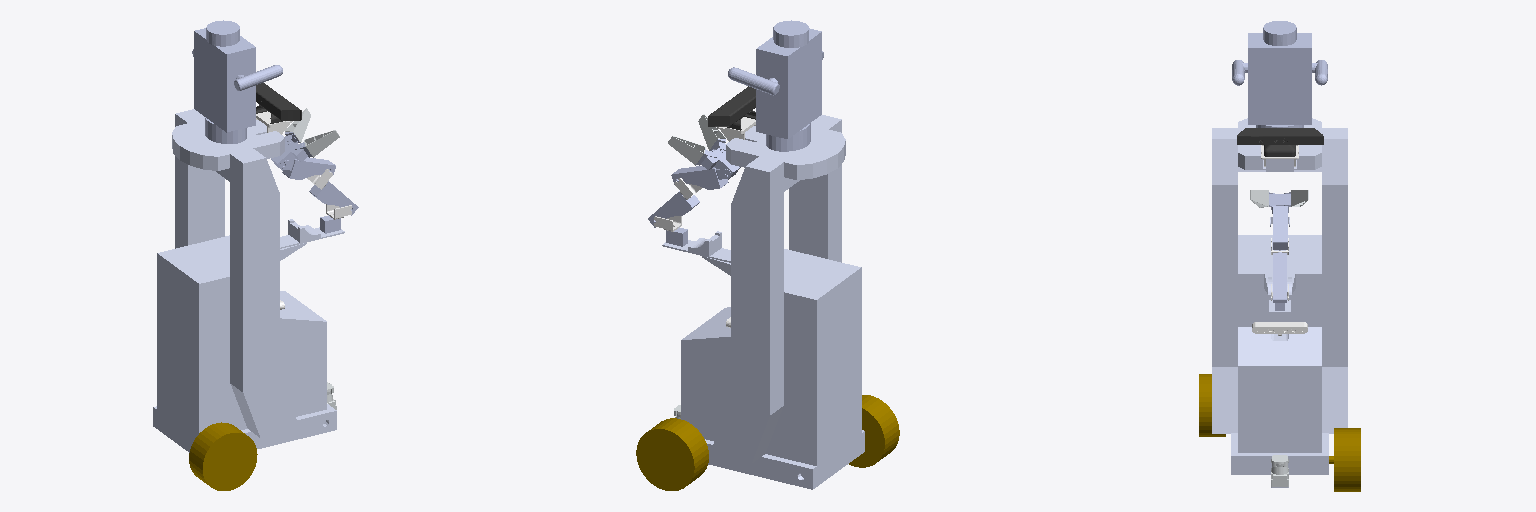
--- Facts derived from the render (not from the file) ---
3 views of the same robot in one strip: view 1: azimuth 30°, elevation 25°; view 2: azimuth 150°, elevation 25°; view 3: azimuth 270°, elevation 25° (orthographic).
Model hera_description with 20 links and 19 joints (4 continuous, 15 fixed), rooted at base_link, posed all joints at 0.
Visible links, largest first — view 1: base_link, head_link, wheelBR_link, camera_link, link_7, link_4, link_6, link_2; view 2: base_link, head_link, wheelFL_link, wheelBR_link, camera_link, link_7, link_4, link_6, link_2; view 3: base_link, head_link, camera_link, wheelFL_link, wheelBR_link, link_2, xtion_depth_optical, link_4, link_7, base_scan_link.
Boxes of the visible links, x1,y1,x2,y2 form: base_link: (153,109,344,452); head_link: (192,20,282,143); wheelBR_link: (189,422,257,490); camera_link: (256,83,301,123); link_7: (285,108,339,157); link_4: (282,157,335,179); link_6: (271,132,312,170); link_2: (309,181,358,215); base_link: (662,115,864,489); head_link: (728,20,823,151); wheelFL_link: (636,418,708,490); wheelBR_link: (849,395,899,467); camera_link: (708,86,755,130); link_7: (668,114,725,165); link_4: (671,166,728,189); link_6: (696,139,740,179); link_2: (648,191,699,227); base_link: (1212,118,1347,487); head_link: (1232,21,1327,127); camera_link: (1237,128,1323,156); wheelFL_link: (1329,428,1360,491); wheelBR_link: (1199,374,1225,436); link_2: (1273,252,1286,302); xtion_depth_optical: (1252,322,1307,335); link_4: (1273,207,1287,249); link_7: (1250,190,1308,207); base_scan_link: (1271,455,1288,486).
Bounding box of the posed robot: 0.7129 × 0.5215 × 1.5 m (x, y, z).
Meshes: 19 distinct files referenced, 17 mesh visuals loaded (17 binary STL); not drawn: 2 (reference not matched to a file when rendering).

robot.urdf — hera_description:
<robot
  name="hera_description">
  <link
    name="base_link">
    <inertial>
      <origin
        xyz="-0.0378472205159159 -4.45763618397466E-08 0.342644249622605"
        rpy="0 0 0" />
      <mass
        value="20" />
      <inertia
        ixx="0.044064230209152"
        ixy="1.30625532944847E-06"
        ixz="0.00719294044752676"
        iyy="0.0704530976037132"
        iyz="-1.57888819011965E-06"
        izz="0.0263888679239557" />
    </inertial>
    <visual>
      <origin
        xyz="0 0 0"
        rpy="0 0 0" />
      <geometry>
        <mesh
          filename="package://hera_description/meshes/base_link.STL" />
      </geometry>
      <material
        name="">
        <color
          rgba="0.882352941176471 0.909803921568627 1 1" />
      </material>
    </visual>
    <collision>
      <origin
        xyz="0 0 0"
        rpy="0 0 0" />
      <geometry>
        <mesh
          filename="package://hera_description/meshes/base_link.STL" />
      </geometry>
    </collision>
  </link>
  <link
    name="wheelFL_link">
    <inertial>
      <origin
        xyz="-2.77555756156289E-17 -0.000127707075968042 0"
        rpy="0 0 0" />
      <mass
        value="24.2701476542873" />
      <inertia
        ixx="0"
        ixy="0"
        ixz="0"
        iyy="0"
        iyz="0"
        izz="0" />
    </inertial>
    <visual>
      <origin
        xyz="0 0 0"
        rpy="0 0 0" />
      <geometry>
        <mesh
          filename="package://hera_description/meshes/wheelFL_link.STL" />
      </geometry>
      <material
        name="">
        <color
          rgba="0.647058823529412 0.517647058823529 0 1" />
      </material>
    </visual>
    <collision>
      <origin
        xyz="0 0 0"
        rpy="0 0 0" />
      <geometry>
        <mesh
          filename="package://hera_description/meshes/wheelFL_link.STL" />
      </geometry>
    </collision>
  </link>
  <joint
    name="wheelFL_joint"
    type="continuous">
    <origin
      xyz="0.20648 0.21675 0"
      rpy="0 0 0" />
    <parent
      link="base_link" />
    <child
      link="wheelFL_link" />
    <axis
      xyz="0 1 0" />
    <limit
      effort="3.25"
      velocity="5" />
  </joint>
  <link
    name="wheelFR_link">
    <inertial>
      <origin
        xyz="0 0.000127707075968042 0"
        rpy="0 0 0" />
      <mass
        value="24.2701476542873" />
      <inertia
        ixx="0"
        ixy="0"
        ixz="0"
        iyy="0"
        iyz="0"
        izz="0" />
    </inertial>
    <visual>
      <origin
        xyz="0 0 0"
        rpy="0 0 0" />
      <geometry>
        <mesh
          filename="package://hera_description/meshes/wheelFR_link.STL" />
      </geometry>
      <material
        name="">
        <color
          rgba="0.647058823529412 0.517647058823529 0 1" />
      </material>
    </visual>
    <collision>
      <origin
        xyz="0 0 0"
        rpy="0 0 0" />
      <geometry>
        <mesh
          filename="package://hera_description/meshes/wheelFR_link.STL" />
      </geometry>
    </collision>
  </link>
  <joint
    name="wheelFR_joint"
    type="continuous">
    <origin
      xyz="0.20648 -0.21675 0"
      rpy="0 0 0" />
    <parent
      link="base_link" />
    <child
      link="wheelFR_link" />
    <axis
      xyz="0 1 0" />
    <limit
      effort="3.25"
      velocity="5" />
  </joint>
  <link
    name="wheelBL_link">
    <inertial>
      <origin
        xyz="0 -0.000127707075968042 0"
        rpy="0 0 0" />
      <mass
        value="24.2701476542873" />
      <inertia
        ixx="0"
        ixy="0"
        ixz="0"
        iyy="0"
        iyz="0"
        izz="0" />
    </inertial>
    <visual>
      <origin
        xyz="0 0 0"
        rpy="0 0 0" />
      <geometry>
        <mesh
          filename="package://hera_description/meshes/wheelBL_link.STL" />
      </geometry>
      <material
        name="">
        <color
          rgba="0.647058823529412 0.517647058823529 0 1" />
      </material>
    </visual>
    <collision>
      <origin
        xyz="0 0 0"
        rpy="0 0 0" />
      <geometry>
        <mesh
          filename="package://hera_description/meshes/wheelBL_link.STL" />
      </geometry>
    </collision>
  </link>
  <joint
    name="wheelBL_joint"
    type="continuous">
    <origin
      xyz="-0.20623 0.21675 0"
      rpy="0 0 0" />
    <parent
      link="base_link" />
    <child
      link="wheelBL_link" />
    <axis
      xyz="0 1 0" />
    <limit
      effort="3.25"
      velocity="5" />
  </joint>
  <link
    name="wheelBR_link">
    <inertial>
      <origin
        xyz="0 0.000127707075968042 6.93889390390723E-18"
        rpy="0 0 0" />
      <mass
        value="24.2701476542873" />
      <inertia
        ixx="0"
        ixy="0"
        ixz="0"
        iyy="0"
        iyz="0"
        izz="0" />
    </inertial>
    <visual>
      <origin
        xyz="0 0 0"
        rpy="0 0 0" />
      <geometry>
        <mesh
          filename="package://hera_description/meshes/wheelBR_link.STL" />
      </geometry>
      <material
        name="">
        <color
          rgba="0.647058823529412 0.517647058823529 0 1" />
      </material>
    </visual>
    <collision>
      <origin
        xyz="0 0 0"
        rpy="0 0 0" />
      <geometry>
        <mesh
          filename="package://hera_description/meshes/wheelBR_link.STL" />
      </geometry>
    </collision>
  </link>
  <joint
    name="wheelBR_joint"
    type="continuous">
    <origin
      xyz="-0.20623 -0.21675 0"
      rpy="0 0 0" />
    <parent
      link="base_link" />
    <child
      link="wheelBR_link" />
    <axis
      xyz="0 1 0" />
    <limit
      effort="3.25"
      velocity="5" />
  </joint>
  <link
    name="base_scan_link">
    <inertial>
      <origin
        xyz="-0.00172501697333638 -4.93002948039427E-13 -0.0147337457873118"
        rpy="0 0 0" />
      <mass
        value="0.669181583389372" />
      <inertia
        ixx="0.000378278931511382"
        ixy="-2.04265599379836E-17"
        ixz="1.4632315095333E-06"
        iyy="0.000378287917620533"
        iyz="9.23792313122111E-15"
        izz="8.98610915070338E-09" />
    </inertial>
    <visual>
      <origin
        xyz="0 0 0"
        rpy="0 0 0" />
      <geometry>
        <mesh
          filename="package://hera_description/meshes/base_scan_link.STL" />
      </geometry>
      <material
        name="">
        <color
          rgba="0.898039215686275 0.917647058823529 0.929411764705882 1" />
      </material>
    </visual>
    <collision>
      <origin
        xyz="0 0 0"
        rpy="0 0 0" />
      <geometry>
        <mesh
          filename="package://hera_description/meshes/base_scan_link.STL" />
      </geometry>
    </collision>
  </link>
  <joint
    name="base_scan_joint"
    type="fixed">
    <origin
      xyz="0.29379 0 0.013419"
      rpy="0 0 0" />
    <parent
      link="base_link" />
    <child
      link="base_scan_link" />
    <axis
      xyz="0 0 0" />
  </joint>
  <link
    name="xtion_link">
    <inertial>
      <origin
        xyz="-0.0214204948659581 -4.24610953899513E-10 -0.000813578798952275"
        rpy="0 0 0" />
      <mass
        value="0.012280323128001" />
      <inertia
        ixx="0"
        ixy="0"
        ixz="0"
        iyy="0"
        iyz="0"
        izz="0" />
    </inertial>
    <visual>
      <origin
        xyz="0 0 0"
        rpy="0 0 0" />
      <geometry>
        <mesh
          filename="package://hera_description/meshes/xtion_link.STL" />
      </geometry>
      <material
        name="">
        <color
          rgba="1 1 1 0.32" />
      </material>
    </visual>
    <collision>
      <origin
        xyz="0 0 0"
        rpy="0 0 0" />
      <geometry>
        <mesh
          filename="package://hera_description/meshes/xtion_link.STL" />
      </geometry>
    </collision>
  </link>
  <joint
    name="xtion_joint"
    type="fixed">
    <origin
      xyz="0.0775 0 0.3873"
      rpy="0 0 0" />
    <parent
      link="base_link" />
    <child
      link="xtion_link" />
    <axis
      xyz="0 1 0" />
    <limit
      effort="0"
      velocity="0" />
  </joint>
  <link
    name="xtion_depth_optical">
    <inertial>
      <origin
        xyz="-0.0167798361475048 -0.0447871333667723 -0.000201032384153421"
        rpy="0 0 0" />
      <mass
        value="0.160828442414892" />
      <inertia
        ixx="0"
        ixy="0"
        ixz="0"
        iyy="0"
        iyz="0"
        izz="0" />
    </inertial>
    <visual>
      <origin
        xyz="0 0 0"
        rpy="0 0 0" />
      <geometry>
        <mesh
          filename="package://hera_description/meshes/xtion_depth_optical.STL" />
      </geometry>
      <material
        name="">
        <color
          rgba="1 1 1 0.32" />
      </material>
    </visual>
    <collision>
      <origin
        xyz="0 0 0"
        rpy="0 0 0" />
      <geometry>
        <mesh
          filename="package://hera_description/meshes/xtion_depth_optical.STL" />
      </geometry>
    </collision>
  </link>
  <joint
    name="xtion_depth_optical_joint"
    type="fixed">
    <origin
      xyz="0.016 0.0445000000000008 0.0214843769443395"
      rpy="0 0 0" />
    <parent
      link="xtion_link" />
    <child
      link="xtion_depth_optical" />
    <axis
      xyz="0 0 0" />
  </joint>
  <link
    name="manip_link">
    <inertial>
      <origin
        xyz="0.00670680348818703 3.974947148317E-09 0.0318456490768535"
        rpy="0 0 0" />
      <mass
        value="0.117793912097688" />
      <inertia
        ixx="3.51059975475259E-05"
        ixy="-8.98830903989E-12"
        ixz="-2.22633738741355E-05"
        iyy="4.92248903546142E-05"
        iyz="-1.41732136779733E-11"
        izz="1.41188928070997E-05" />
    </inertial>
    <visual>
      <origin
        xyz="0 0 0"
        rpy="0 0 0" />
      <geometry>
        <mesh
          filename="package://hera_description/meshes/manip_link.STL" />
      </geometry>
      <material
        name="">
        <color
          rgba="0.792156862745098 0.819607843137255 0.933333333333333 1" />
      </material>
    </visual>
    <collision>
      <origin
        xyz="0 0 0"
        rpy="0 0 0" />
      <geometry>
        <mesh
          filename="package://hera_description/meshes/manip_link.STL" />
      </geometry>
    </collision>
  </link>
  <joint
    name="manip_joint"
    type="fixed">
    <origin
      xyz="0.316 0 0.5923"
      rpy="0 0 0" />
    <parent
      link="base_link" />
    <child
      link="manip_link" />
    <axis
      xyz="0 0 0" />
  </joint>
  <link
    name="link_1">
    <inertial>
      <origin
        xyz="0.0104033798877035 1.61957894568264E-08 0.0156157675149726"
        rpy="0 0 0" />
      <mass
        value="0.0289102663054045" />
      <inertia
        ixx="0"
        ixy="0"
        ixz="0"
        iyy="0"
        iyz="0"
        izz="0" />
    </inertial>
    <visual>
      <origin
        xyz="0 0 0"
        rpy="0 0 0" />
      <geometry>
        <mesh
          filename="package://hera_description/meshes/link_1.STL" />
      </geometry>
      <material
        name="">
        <color
          rgba="0.996078431372549 0.996078431372549 1 1" />
      </material>
    </visual>
    <collision>
      <origin
        xyz="0 0 0"
        rpy="0 0 0" />
      <geometry>
        <mesh
          filename="package://hera_description/meshes/link_1.STL" />
      </geometry>
    </collision>
  </link>
  <joint
    name="joint_1"
    type="fixed">
    <origin
      xyz="0.0155 0 0.0465"
      rpy="0 0 0" />
    <parent
      link="manip_link" />
    <child
      link="link_1" />
    <axis
      xyz="0 0 1" />
    <limit
      effort="10.6"
      velocity="5" />
  </joint>
  <link
    name="link_2">
    <inertial>
      <origin
        xyz="0.0741364452821117 1.30229255655455E-17 0.00628031610796598"
        rpy="0 0 0" />
      <mass
        value="0.375828736783438" />
      <inertia
        ixx="0"
        ixy="0"
        ixz="0"
        iyy="0"
        iyz="0"
        izz="0" />
    </inertial>
    <visual>
      <origin
        xyz="0 0 0"
        rpy="0 0 0" />
      <geometry>
        <mesh
          filename="package://hera_description/meshes/link_2.STL" />
      </geometry>
      <material
        name="">
        <color
          rgba="0.792156862745098 0.819607843137255 0.933333333333333 1" />
      </material>
    </visual>
    <collision>
      <origin
        xyz="0 0 0"
        rpy="0 0 0" />
      <geometry>
        <mesh
          filename="package://hera_description/meshes/link_2.STL" />
      </geometry>
    </collision>
  </link>
  <joint
    name="joint_2"
    type="fixed">
    <origin
      xyz="0.048 0 0.0215"
      rpy="3.1416 -0.8154 -3.1416" />
    <parent
      link="link_1" />
    <child
      link="link_2" />
    <axis
      xyz="0 -1 0" />
    <limit
      effort="10.6"
      velocity="5" />
  </joint>
  <link
    name="link_3">
    <inertial>
      <origin
        xyz="0.0156157675773119 1.6417634019545E-08 -0.0104033799815866"
        rpy="0 0 0" />
      <mass
        value="0.0289102659811359" />
      <inertia
        ixx="0"
        ixy="0"
        ixz="0"
        iyy="0"
        iyz="0"
        izz="0" />
    </inertial>
    <visual>
      <origin
        xyz="0 0 0"
        rpy="0 0 0" />
      <geometry>
        <mesh
          filename="package://hera_description/meshes/link_3.STL" />
      </geometry>
      <material
        name="">
        <color
          rgba="0.996078431372549 0.996078431372549 1 1" />
      </material>
    </visual>
    <collision>
      <origin
        xyz="0 0 0"
        rpy="0 0 0" />
      <geometry>
        <mesh
          filename="package://hera_description/meshes/link_3.STL" />
      </geometry>
    </collision>
  </link>
  <joint
    name="joint_3"
    type="fixed">
    <origin
      xyz="0.14525 0 0"
      rpy="0 -5.5511E-17 -4.9304E-32" />
    <parent
      link="link_2" />
    <child
      link="link_3" />
    <axis
      xyz="1 0 0" />
    <limit
      effort="10.6"
      velocity="5" />
  </joint>
  <link
    name="link_4">
    <inertial>
      <origin
        xyz="0.0741364452820953 1.48160807624323E-13 0.00628031610795943"
        rpy="0 0 0" />
      <mass
        value="0.375828736783437" />
      <inertia
        ixx="0"
        ixy="0"
        ixz="0"
        iyy="0"
        iyz="0"
        izz="0" />
    </inertial>
    <visual>
      <origin
        xyz="0 0 0"
        rpy="0 0 0" />
      <geometry>
        <mesh
          filename="package://hera_description/meshes/link_4.STL" />
      </geometry>
      <material
        name="">
        <color
          rgba="0.792156862745098 0.819607843137255 0.933333333333333 1" />
      </material>
    </visual>
    <collision>
      <origin
        xyz="0 0 0"
        rpy="0 0 0" />
      <geometry>
        <mesh
          filename="package://hera_description/meshes/link_4.STL" />
      </geometry>
    </collision>
  </link>
  <joint
    name="joint_4"
    type="fixed">
    <origin
      xyz="0.0215 0.0001535 -0.048"
      rpy="8.3578E-18 -0.4681 -2.9674E-16" />
    <parent
      link="link_3" />
    <child
      link="link_4" />
    <axis
      xyz="0 -1 0" />
    <limit
      effort="10.6"
      velocity="5" />
  </joint>
  <link
    name="link_5">
    <inertial>
      <origin
        xyz="0.010087101628525 1.48136575705768E-13 -6.77236045021345E-15"
        rpy="0 0 0" />
      <mass
        value="0.0141181825481306" />
      <inertia
        ixx="0"
        ixy="0"
        ixz="0"
        iyy="0"
        iyz="0"
        izz="0" />
    </inertial>
    <visual>
      <origin
        xyz="0 0 0"
        rpy="0 0 0" />
      <geometry>
        <mesh
          filename="package://hera_description/meshes/link_5.STL" />
      </geometry>
      <material
        name="">
        <color
          rgba="0.792156862745098 0.819607843137255 0.933333333333333 1" />
      </material>
    </visual>
    <collision>
      <origin
        xyz="0 0 0"
        rpy="0 0 0" />
      <geometry>
        <mesh
          filename="package://hera_description/meshes/link_5.STL" />
      </geometry>
    </collision>
  </link>
  <joint
    name="joint_5"
    type="fixed">
    <origin
      xyz="0.14525 0 0"
      rpy="-0.0090 1.4438E-31 -8.5251E-17" />
    <parent
      link="link_4" />
    <child
      link="link_5" />
    <axis
      xyz="1 0 0" />
    <limit
      effort="10.6"
      velocity="5" />
  </joint>
  <link
    name="link_6">
    <inertial>
      <origin
        xyz="0.0426969278796748 1.47804755630879E-13 0.0176856465994266"
        rpy="0 0 0" />
      <mass
        value="0.23859359410415" />
      <inertia
        ixx="8.93099227661008E-05"
        ixy="-2.04409858272724E-17"
        ixz="-5.33316339200297E-05"
        iyy="0.000150844639986451"
        iyz="-8.64121315512775E-18"
        izz="0.000195973190606168" />
    </inertial>
    <visual>
      <origin
        xyz="0 0 0"
        rpy="0 0 0" />
      <geometry>
        <mesh
          filename="package://hera_description/meshes/link_6.STL" />
      </geometry>
      <material
        name="">
        <color
          rgba="0.792156862745098 0.819607843137255 0.933333333333333 1" />
      </material>
    </visual>
    <collision>
      <origin
        xyz="0 0 0"
        rpy="0 0 0" />
      <geometry>
        <mesh
          filename="package://hera_description/meshes/link_6.STL" />
      </geometry>
    </collision>
  </link>
  <joint
    name="joint_6"
    type="fixed">
    <origin
      xyz="0.0375 0 0"
      rpy="0 2.6196 0" />
    <parent
      link="link_5" />
    <child
      link="link_6" />
    <axis
      xyz="0 -1 0" />
    <limit
      effort="10.6"
      velocity="5" />
  </joint>
  <link
    name="link_7">
    <inertial>
      <origin
        xyz="0.000799658923762936 -5.81362093582914E-08 -2.0959335822468E-08"
        rpy="0 0 0" />
      <mass
        value="0.107040413919575" />
      <inertia
        ixx="0.000469215991711516"
        ixy="4.61057822637853E-11"
        ixz="5.0144351564635E-19"
        iyy="4.58551606653143E-18"
        iyz="-5.08471341484018E-12"
        izz="0.000469215991711521" />
    </inertial>
    <visual>
      <origin
        xyz="0 0 0"
        rpy="0 0 0" />
      <geometry>
        <mesh
          filename="package://hera_description/meshes/link_7.STL" />
      </geometry>
      <material
        name="">
        <color
          rgba="0.898039215686275 0.917647058823529 0.929411764705882 1" />
      </material>
    </visual>
    <collision>
      <origin
        xyz="0 0 0"
        rpy="0 0 0" />
      <geometry>
        <mesh
          filename="package://hera_description/meshes/link_7.STL" />
      </geometry>
    </collision>
  </link>
  <joint
    name="joint_7"
    type="fixed">
    <origin
      xyz="0.11762 0 0.04872"
      rpy="2.9899E-16 -0.3927 -1.9936E-16" />
    <parent
      link="link_6" />
    <child
      link="link_7" />
    <axis
      xyz="0 0 0" />
    <limit
      effort="10.6"
      velocity="0" />
  </joint>
  <link
    name="link_8" />
  <joint
    name="joint_8"
    type="fixed">
    <origin
      xyz="0.062599 0 0"
      rpy="0 3.0458E-31 0" />
    <parent
      link="link_7" />
    <child
      link="link_8" />
    <axis
      xyz="0 0 0" />
    <limit
      effort="10.6"
      velocity="0" />
  </joint>
  <link
    name="kinect_link">
    <inertial>
      <origin
        xyz="0.0174731660530447 0.000165436078301785 0.0325759125542562"
        rpy="0 0 0" />
      <mass
        value="0.0956443898933828" />
      <inertia
        ixx="0"
        ixy="0"
        ixz="0"
        iyy="0"
        iyz="0"
        izz="0" />
    </inertial>
    <visual>
      <origin
        xyz="0 0 0"
        rpy="0 0 0" />
      <geometry>
        <mesh
          filename="package://hera_description/meshes/kinect_link.STL" />
      </geometry>
      <material
        name="">
        <color
          rgba="1 1 1 1" />
      </material>
    </visual>
    <collision>
      <origin
        xyz="0 0 0"
        rpy="0 0 0" />
      <geometry>
        <mesh
          filename="package://hera_description/meshes/kinect_link.STL" />
      </geometry>
    </collision>
  </link>
  <joint
    name="kinect_joint"
    type="fixed">
    <origin
      xyz="0.077635 0 0.99883"
      rpy="6.0338E-16 0 0" />
    <parent
      link="base_link" />
    <child
      link="kinect_link" />
    <axis
      xyz="0 1 0" />
    <!-- <limit
      lower="0"
      upper="1.57"
      effort="3"
      velocity="3" /> -->
  </joint>
  <link
    name="camera_link">
    <inertial>
      <origin
        xyz="-0.0249439013422586 0.0101695683720893 -0.00338860098947635"
        rpy="0 0 0" />
      <mass
        value="0.601627894799159" />
      <inertia
        ixx="5.990327152102E-05"
        ixy="1.49751784865378E-07"
        ixz="1.87108228809937E-05"
        iyy="6.57441457584246E-05"
        iyz="-4.79404209175574E-07"
        izz="5.84854804592201E-06" />
    </inertial>
    <visual>
      <origin
        xyz="0 0 0"
        rpy="0 0 0" />
      <geometry>
        <mesh
          filename="package://hera_description/meshes/camera_link.STL" />
      </geometry>
      <material
        name="">
        <color
          rgba="0.298039215686275 0.298039215686275 0.298039215686275 1" />
      </material>
    </visual>
    <collision>
      <origin
        xyz="0 0 0"
        rpy="0 0 0" />
      <geometry>
        <mesh
          filename="package://hera_description/meshes/camera_link.STL" />
      </geometry>
    </collision>
  </link>
  <joint
    name="camera_joint"
    type="fixed">
    <origin
      xyz="0.0489731680776693 -0.00991907062292097 0.0979999999999999"
      rpy="-6.03382078600628E-16 1.07182188209377E-30 1.77635683940025E-15" />
    <parent
      link="kinect_link" />
    <child
      link="camera_link" />
    <axis
      xyz="0 0 0" />
  </joint>
  <link
    name="head_link">
    <inertial>
      <origin
        xyz="-0.013849039370921 -6.03535467358075E-09 0.189580167582216"
        rpy="0 0 0" />
      <mass
        value="8.0744855416889" />
      <inertia
        ixx="0"
        ixy="0"
        ixz="0"
        iyy="0"
        iyz="0"
        izz="0" />
    </inertial>
    <visual>
      <origin
        xyz="0 0 0"
        rpy="0 0 0" />
      <geometry>
        <mesh
          filename="package://hera_description/meshes/head_link.STL" />
      </geometry>
      <material
        name="">
        <color
          rgba="0.792156862745098 0.819607843137255 0.933333333333333 1" />
      </material>
    </visual>
    <collision>
      <origin
        xyz="0 0 0"
        rpy="0 0 0" />
      <geometry>
        <mesh
          filename="package://hera_description/meshes/head_link.STL" />
      </geometry>
    </collision>
  </link>
  <joint
    name="head_joint"
    type="fixed">
    <origin
      xyz="-0.0575 0 1.0193"
      rpy="0 0 1.2616E-16" />
    <parent
      link="base_link" />
    <child
      link="head_link" />
    <axis
      xyz="0 0 0" />
  </joint>
  <gazebo>
    <plugin name="base_controller" filename="libgazebo_ros_planar_move.so">
      <commandTopic>cmd_vel</commandTopic>
      <odometryTopic>odom</odometryTopic>
      <odometryFrame>odom</odometryFrame>
      <odometryRate>100.0</odometryRate>
      <robotBaseFrame>base_footprint</robotBaseFrame>
    </plugin>
  </gazebo>
  <gazebo reference="base_scan_link">
    <sensor name="base_scan" type="ray">
      <always_on>true</always_on>
      <update_rate>10</update_rate>
    	<visualize>true</visualize>
  	  <ray>
        <scan>
          <horizontal>
            <samples>150</samples>
            <resolution>1.0</resolution>
            <min_angle>-1.45</min_angle>
            <max_angle>1.45</max_angle>
          </horizontal>
        </scan>
        <range>
          <min>0.08</min>
          <max>30.0</max>
          <resolution>0.01</resolution>
        </range>
      </ray>
      <plugin name="gazebo_ros_base_scan_controller" filename="libgazebo_ros_laser.so">
        <gaussianNoise>0.005</gaussianNoise>
        <alwaysOn>true</alwaysOn>
        <updateRate>10</updateRate>
        <topicName>base_scan</topicName>
        <frameName>base_scan_link</frameName>
      </plugin>
    </sensor>
  </gazebo>
</robot>
